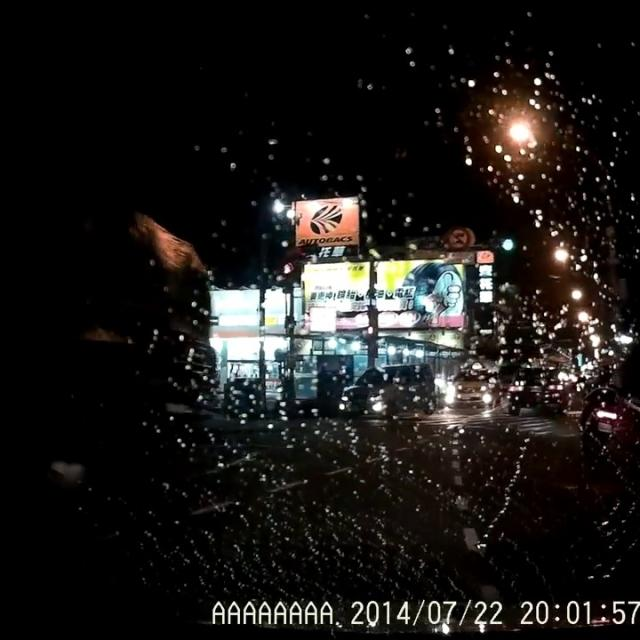Car: (335, 360, 437, 421), (577, 384, 639, 466), (505, 363, 567, 417), (441, 368, 502, 411)
